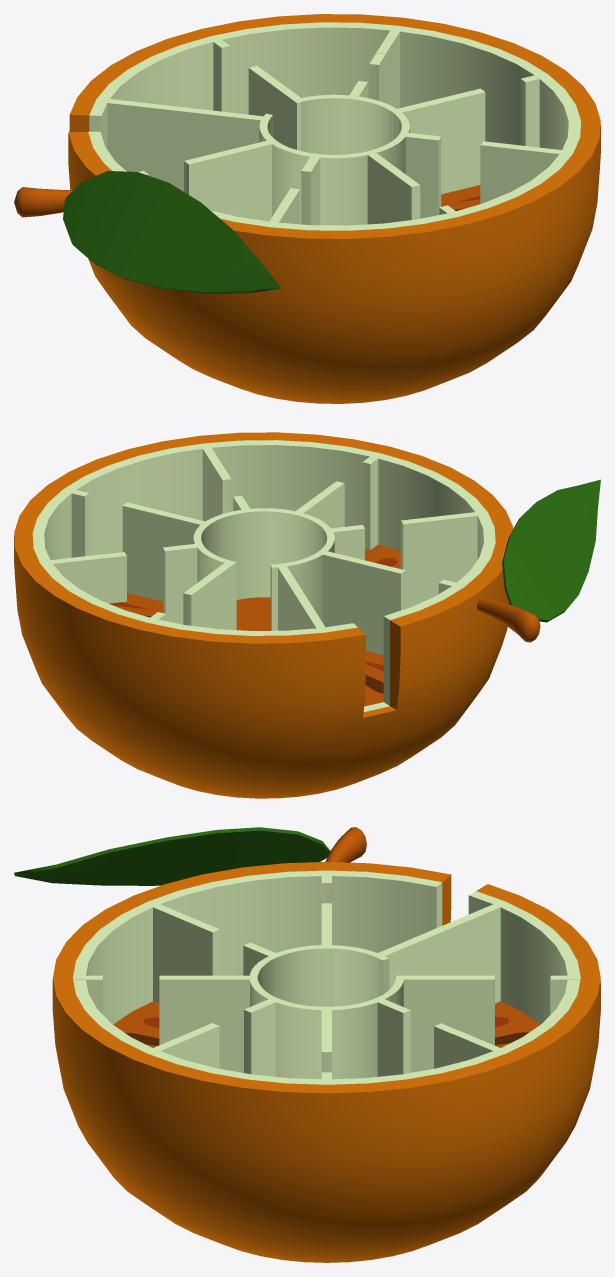
The model's file is citrus.FBX.
The picture shows the model from 3 angles, top to bottom: view 1: azimuth 30°, elevation 25°; view 2: azimuth 150°, elevation 25°; view 3: azimuth 270°, elevation 25°; orthographic projection. The views are drawn at different scales.
Visible parts, largest first — view 1: Object8246, Object8284, Object8297, Plane002, Line005, Object8298; view 2: Object8246, Object8284, Object8297, Plane002, Object8298, Line005; view 3: Object8246, Object8284, Object8297, Plane002, Object8298, Line005.
Part boxes in pixels (bbox=[...]): Object8246: bbox=[68, 14, 600, 403]; Object8284: bbox=[96, 25, 573, 227]; Object8297: bbox=[88, 22, 581, 230]; Plane002: bbox=[63, 171, 280, 293]; Line005: bbox=[14, 187, 72, 217]; Object8298: bbox=[441, 185, 480, 209]; Object8246: bbox=[14, 432, 513, 798]; Object8284: bbox=[39, 443, 488, 655]; Object8297: bbox=[32, 440, 495, 711]; Plane002: bbox=[502, 479, 600, 622]; Object8298: bbox=[112, 544, 400, 706]; Line005: bbox=[477, 598, 540, 642]; Object8246: bbox=[52, 862, 600, 1262]; Object8284: bbox=[73, 876, 580, 1079]; Object8297: bbox=[73, 870, 580, 1084]; Plane002: bbox=[14, 827, 330, 885]; Object8298: bbox=[113, 1001, 540, 1047]; Line005: bbox=[325, 827, 366, 862].
Bounding box in the file's own units: 230 × 212 × 116.
